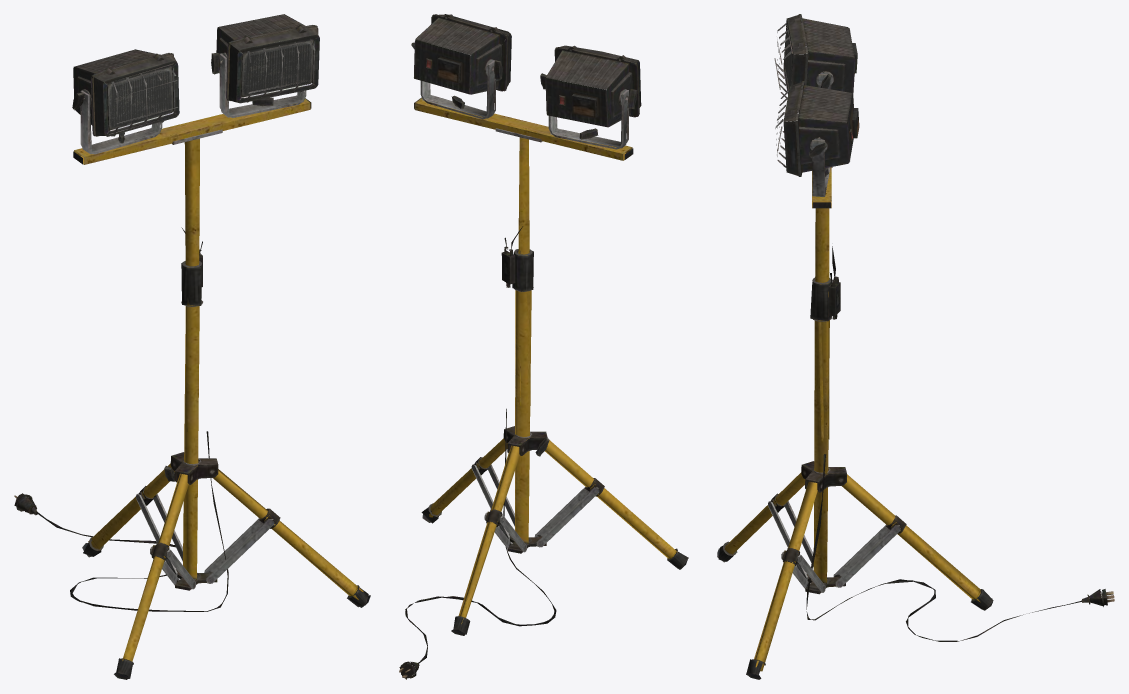
File: ph_flood_double.glb
3 renders of one model, left to right at view 1: azimuth 30°, elevation 25°; view 2: azimuth 150°, elevation 25°; view 3: azimuth 270°, elevation 25°, orthographic. The views are drawn at different scales.
Parts seen in each view (by area): view 1: flood_lights_standing_double_c_bar; view 2: flood_lights_standing_double_c_bar; view 3: flood_lights_standing_double_c_bar.
Part boxes in pixels (x1,y1,x2,y2): flood_lights_standing_double_c_bar: (14, 14, 370, 679); flood_lights_standing_double_c_bar: (399, 14, 688, 679); flood_lights_standing_double_c_bar: (717, 14, 1114, 679).
Bounding box in the file's own units: 0.766 × 1.56 × 1.01.
Materials: 2 (2 with a texture image).
